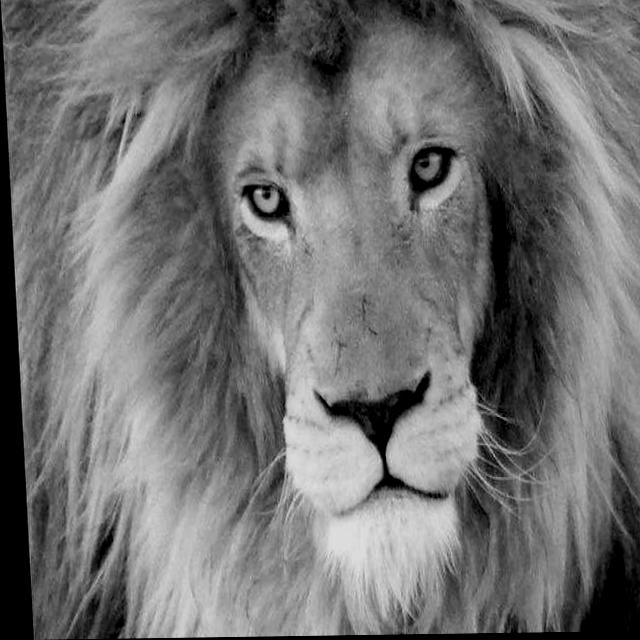Lion: (61, 31, 577, 605)
